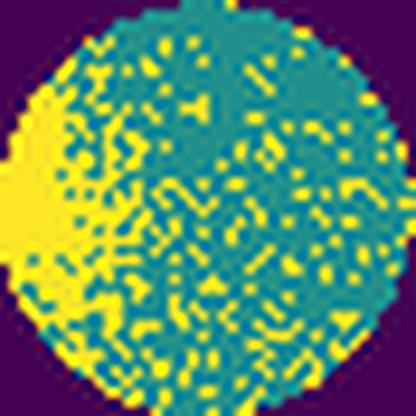Edge-Loc: (0, 22, 167, 392)
